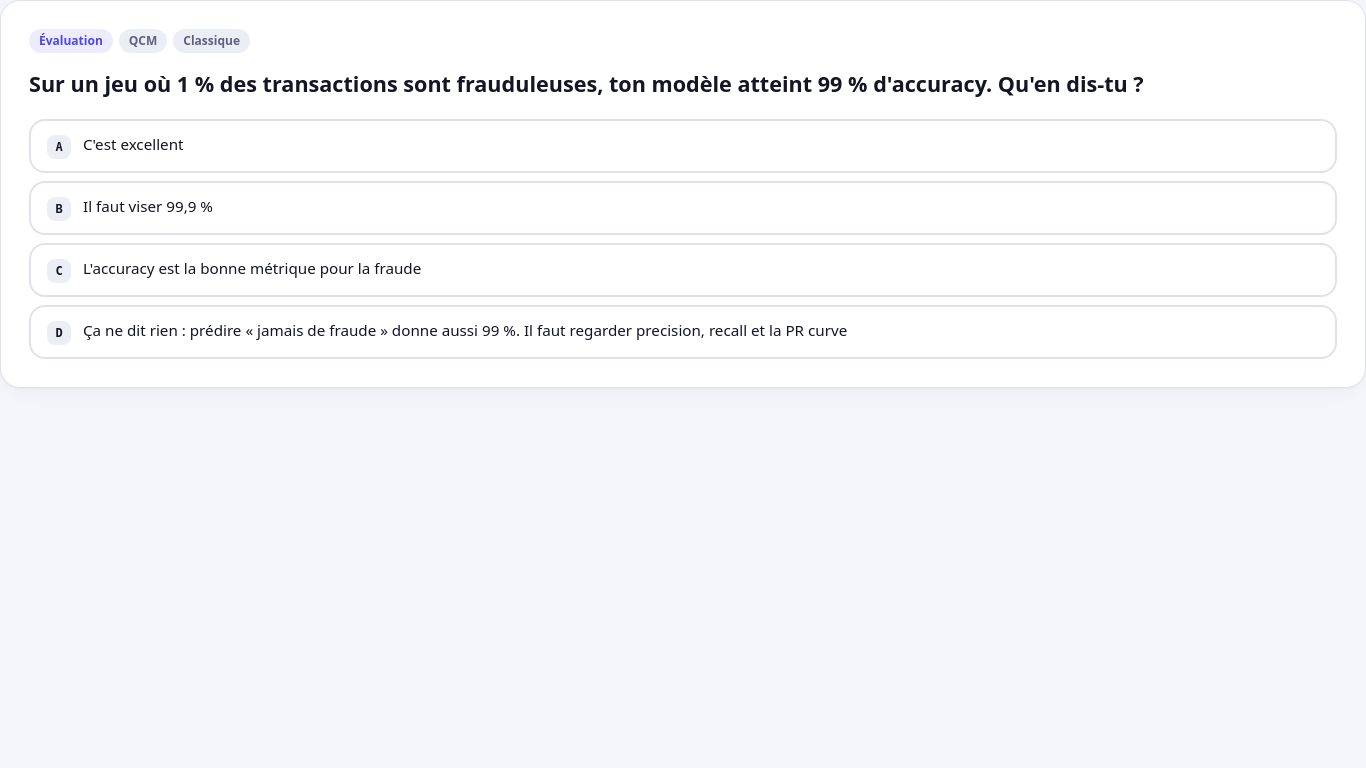
Test: questions d'entretien › QCM : la bonne option donne 1 et affiche l'explication
Click the text "Ça ne dit rien : prédire « jamais de fraude » donne aussi 99 %. Il faut regarder precision, recall et la PR curve".
click(465, 330)  # box [83,319,847,342]
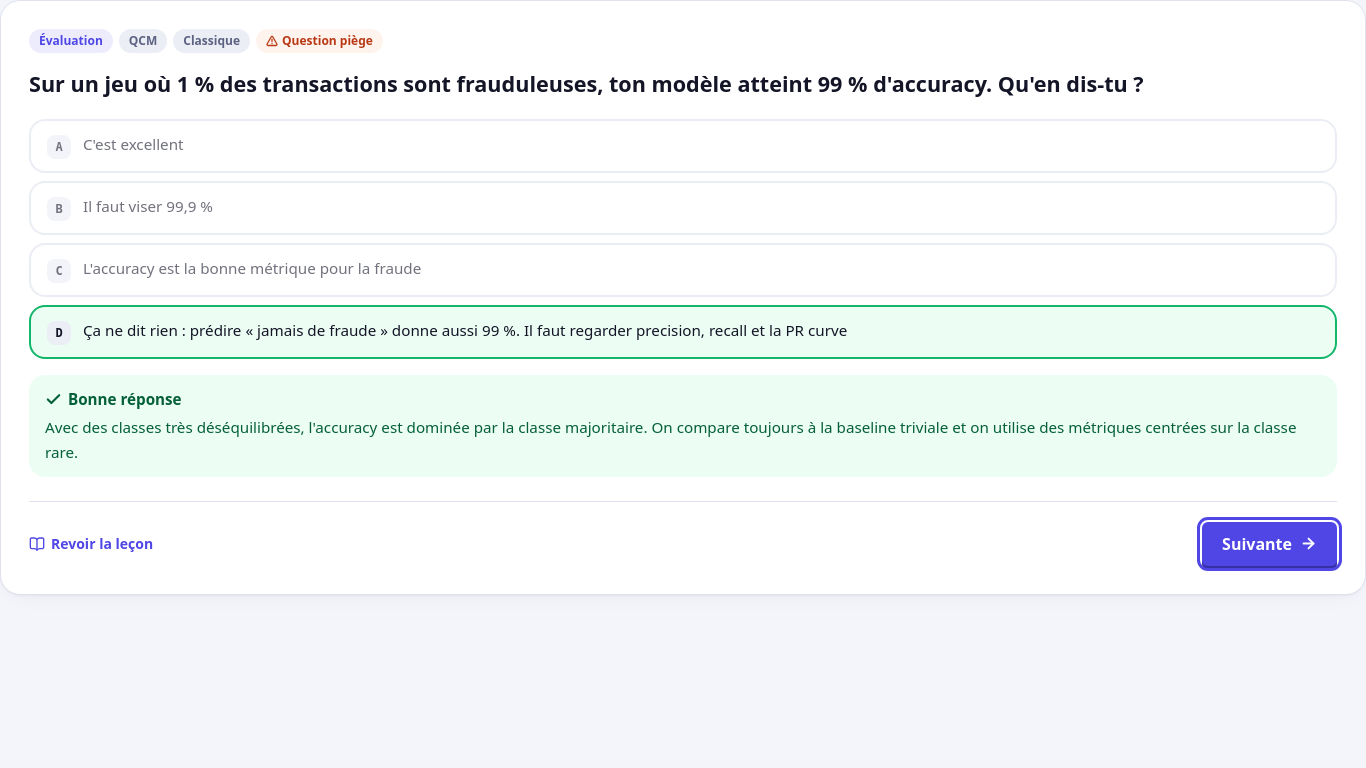
Now the text "Bonne réponse" is shown, box [45,389,182,409]
Now the text "Question piège" is shown, box [256,29,383,53]
